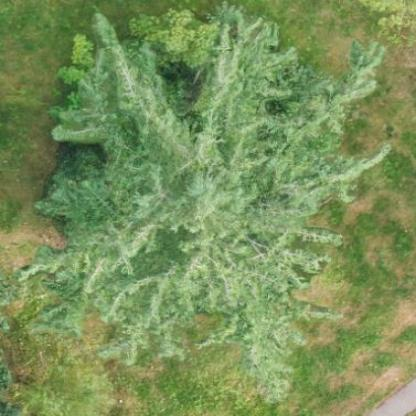Coniferous Tree: (21, 19, 407, 377)
